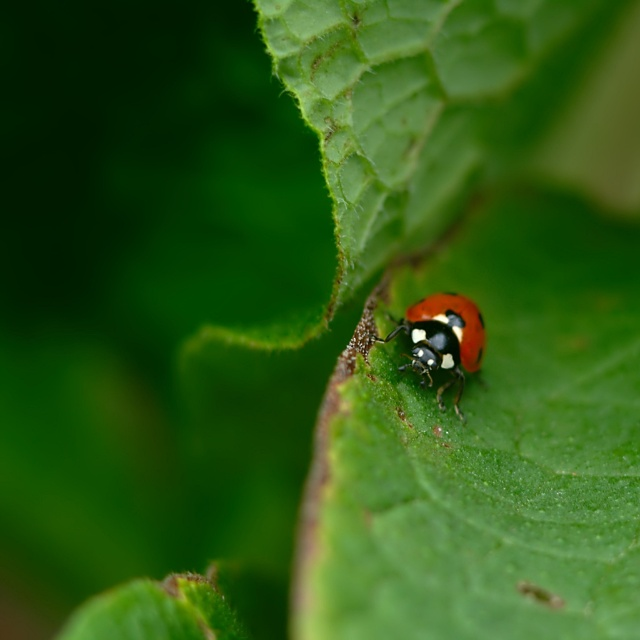Ladybug: (382, 283, 495, 420)
